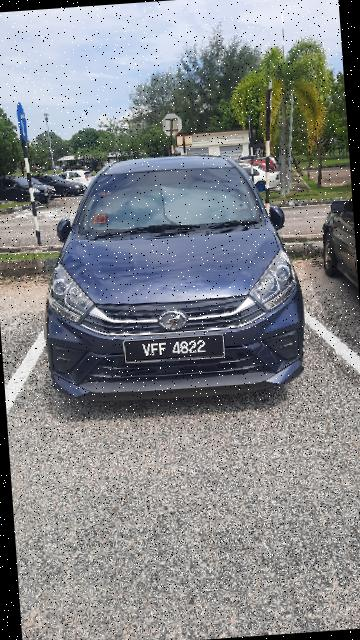License_Plate: (121, 326, 229, 369)
car: (29, 138, 312, 407)
